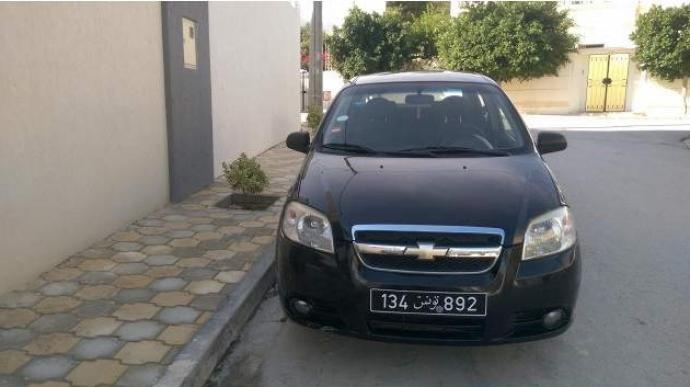LP: (366, 286, 492, 318)
